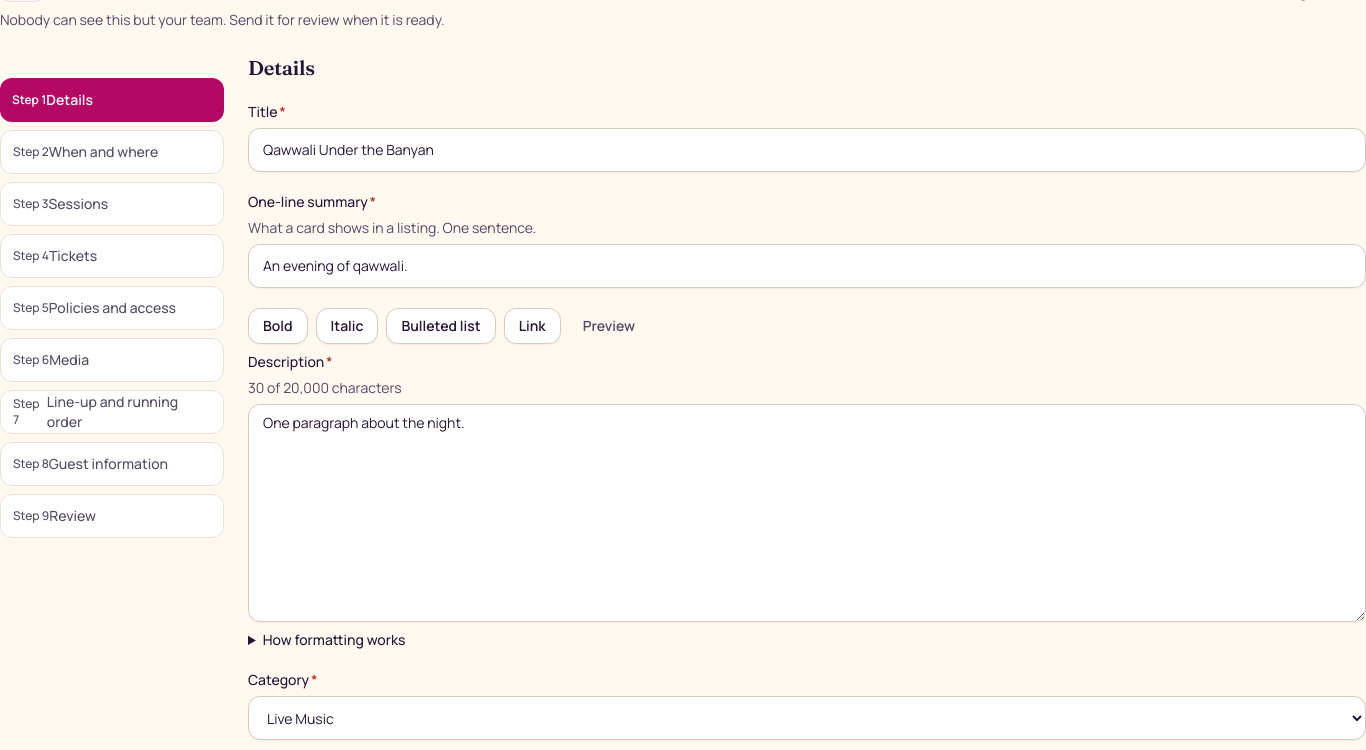
Test: the steps › make step 6 the pictures, with the upload forms and the pictures already there
Click the button "Step 6 Media" at (112, 360), box [0, 338, 224, 382]
(page scrolled)
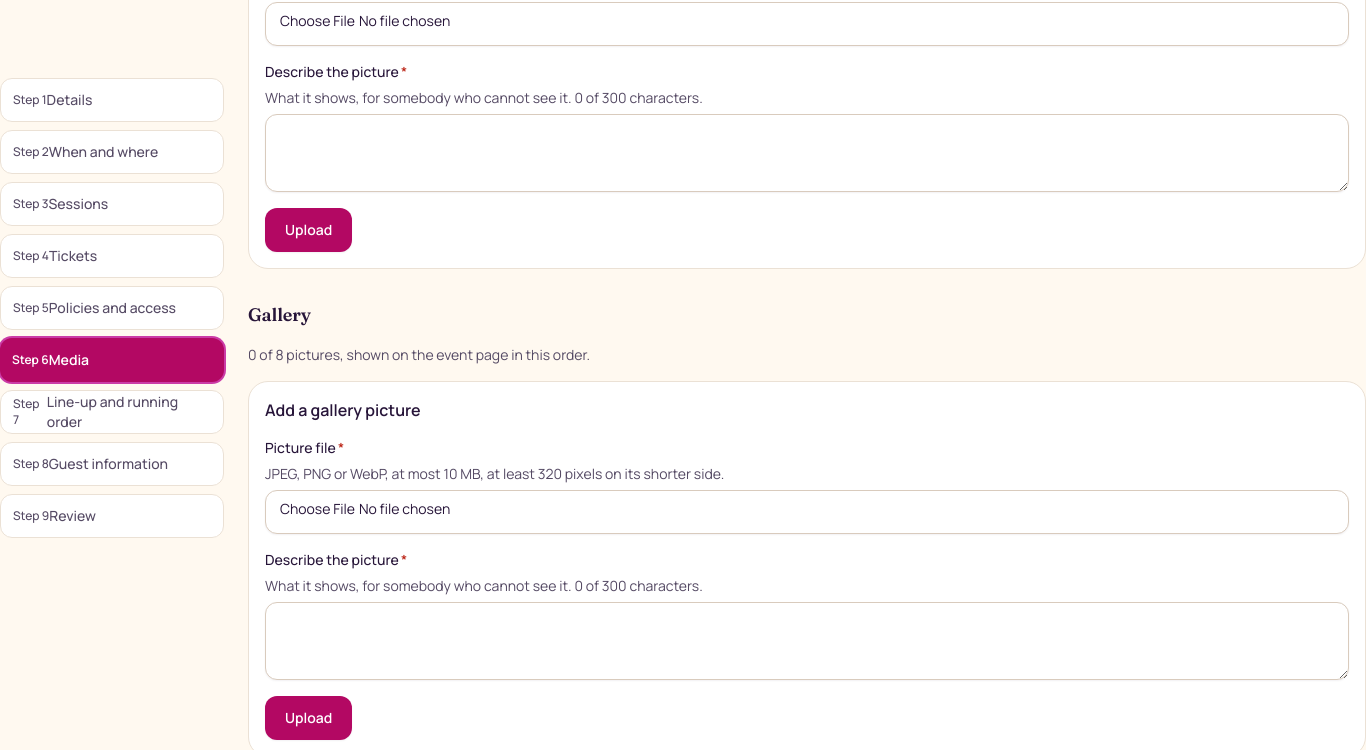
Check: the heading "Add a gallery picture" is shown, box [265, 399, 420, 421]
